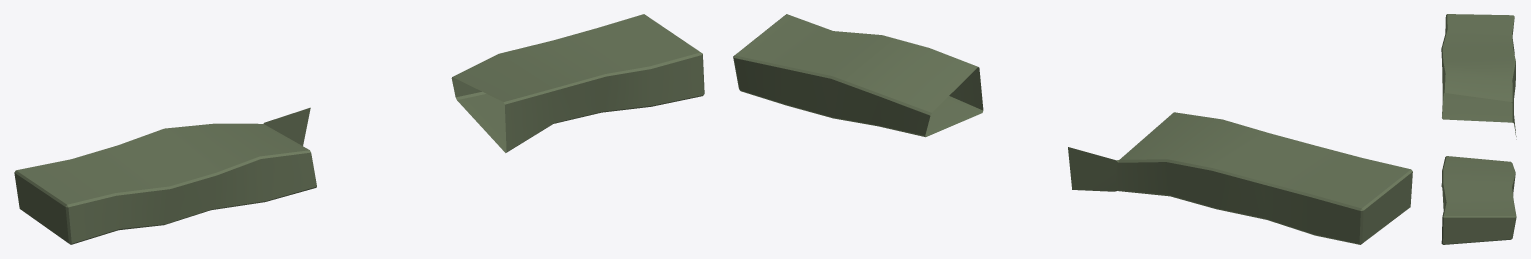
The model's file is brokenbridge_05.glb.
The picture shows the model from 3 angles, left to right: view 1: azimuth 30°, elevation 25°; view 2: azimuth 150°, elevation 25°; view 3: azimuth 270°, elevation 25°; orthographic projection. The views are drawn at different scales.
Visible parts, largest first — view 1: brokenbridge_05; view 2: brokenbridge_05; view 3: brokenbridge_05.
Boxes of the visible parts, bbox=[...] form: brokenbridge_05: bbox=[14, 14, 704, 244]; brokenbridge_05: bbox=[733, 14, 1412, 244]; brokenbridge_05: bbox=[1441, 14, 1516, 244].
Size of the model in its own units: 14.04 by 1.16 by 2.19.
